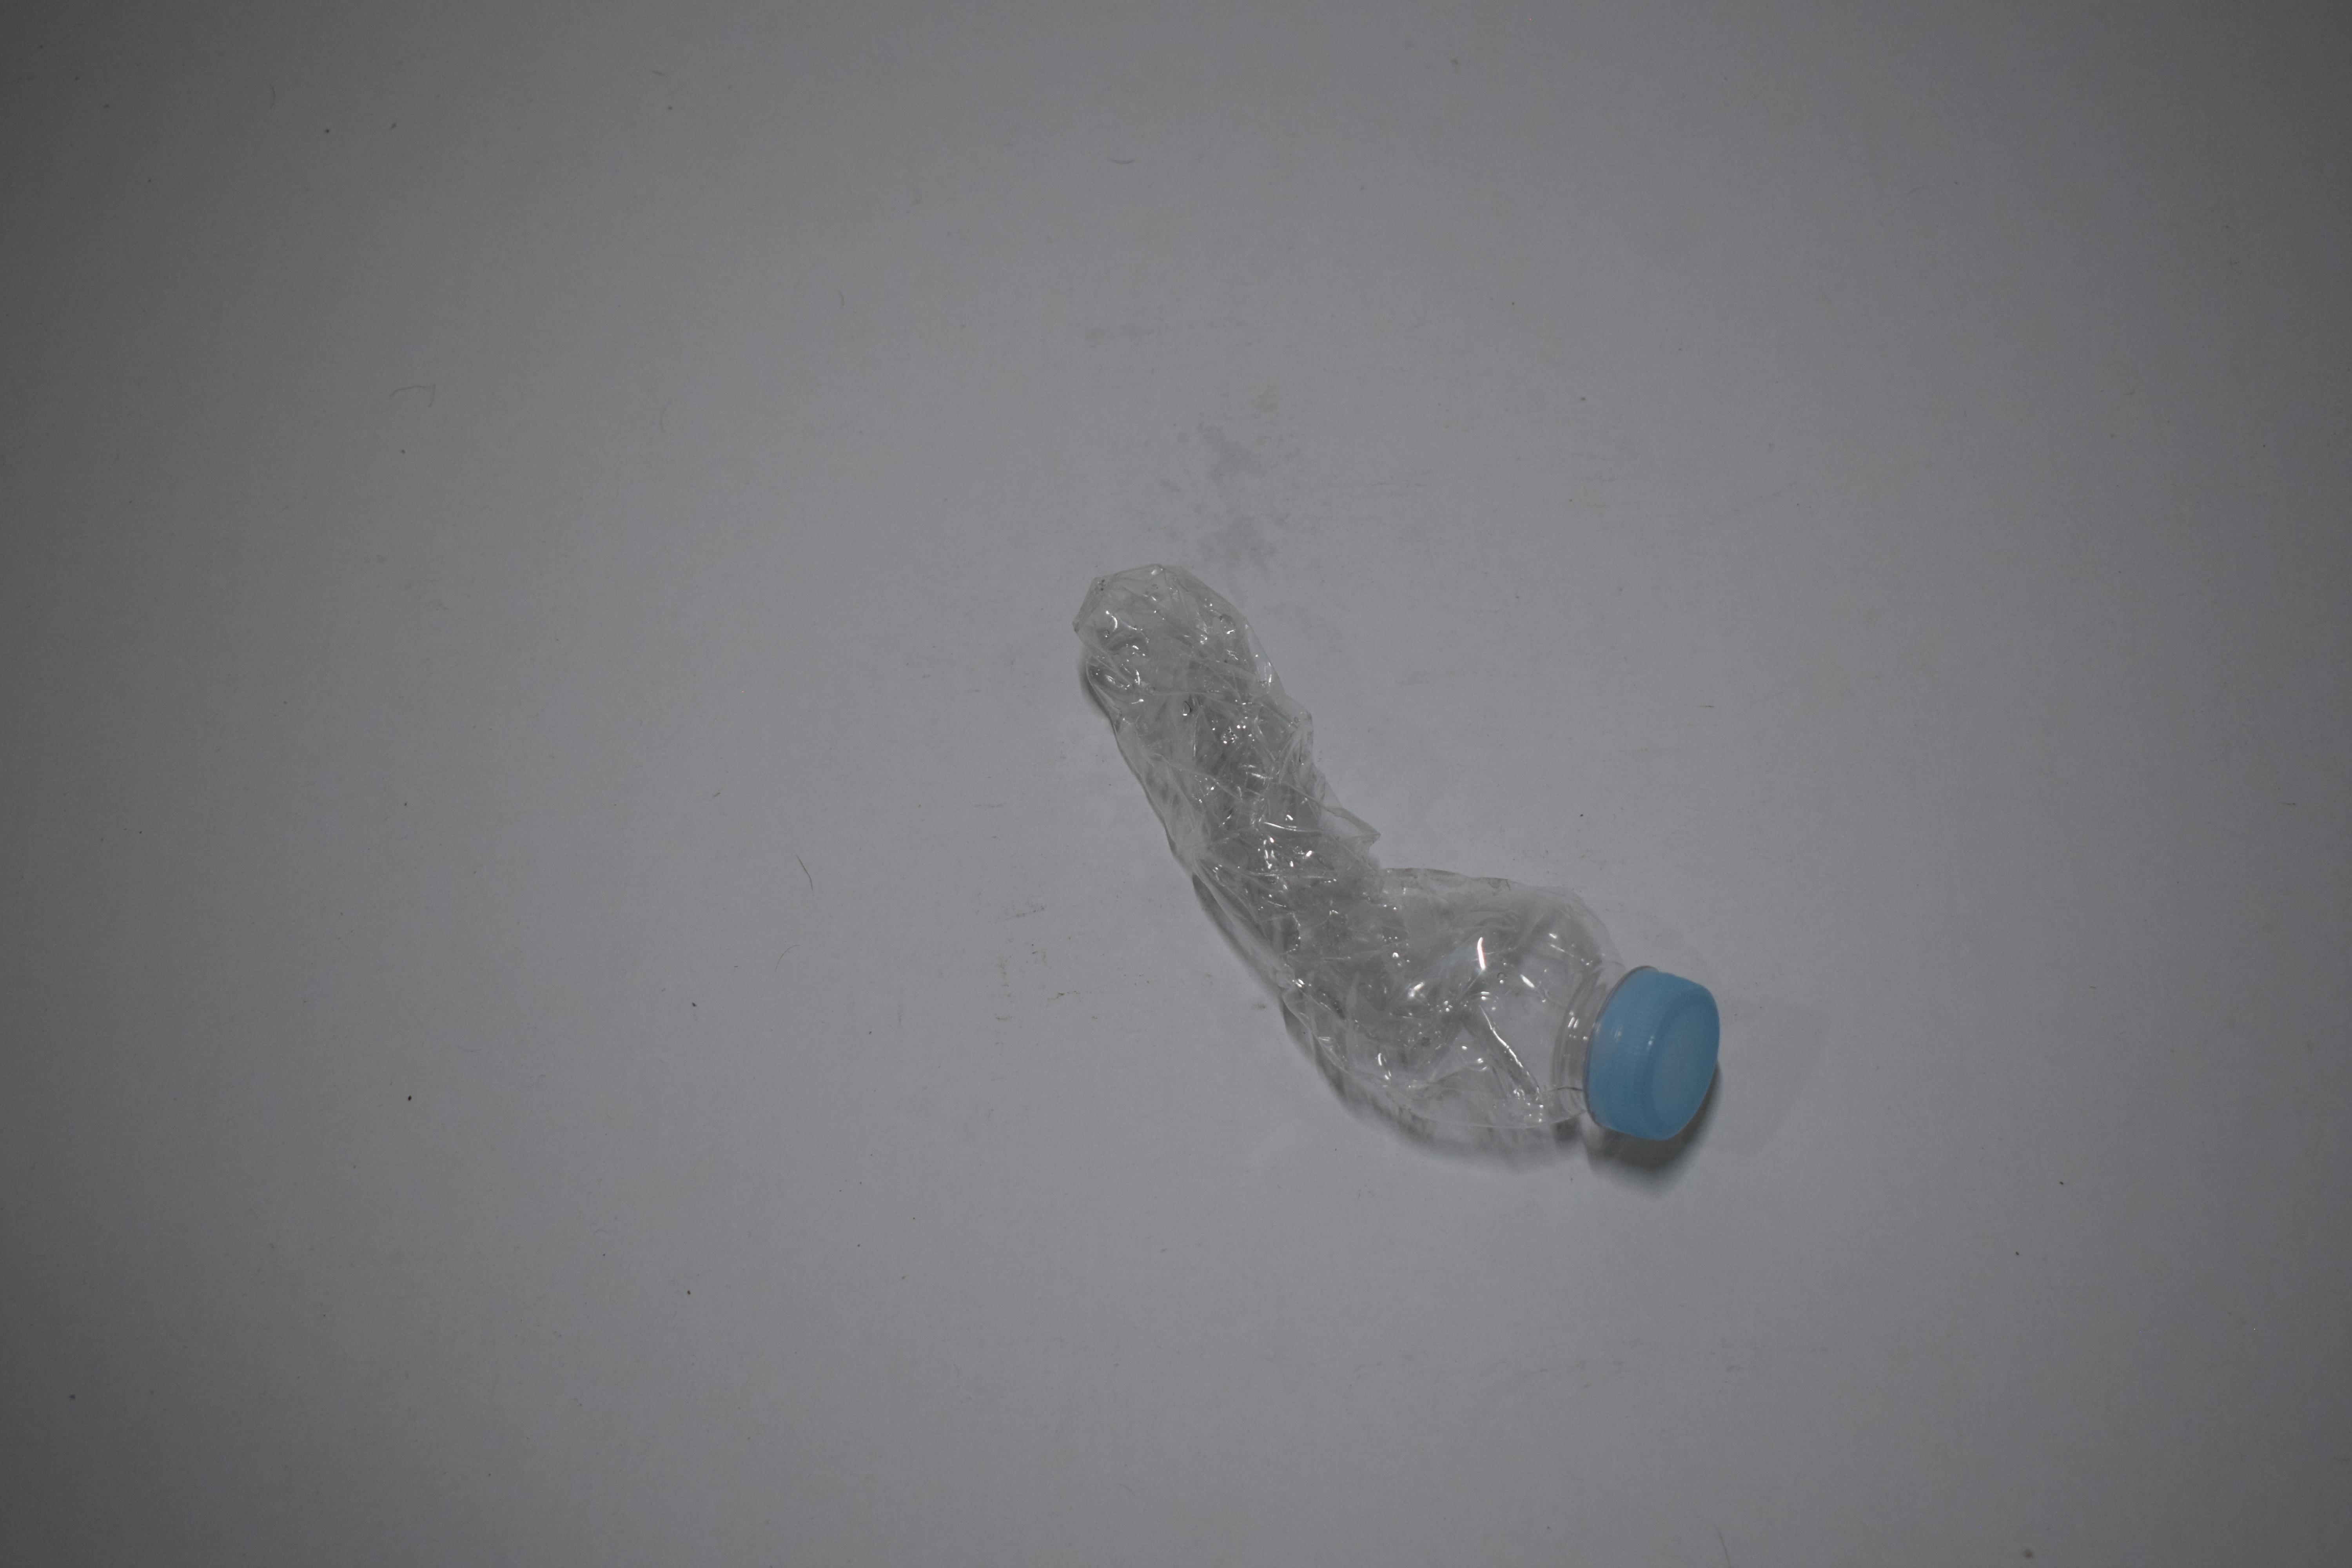bottle: (0, 0, 553, 383)
